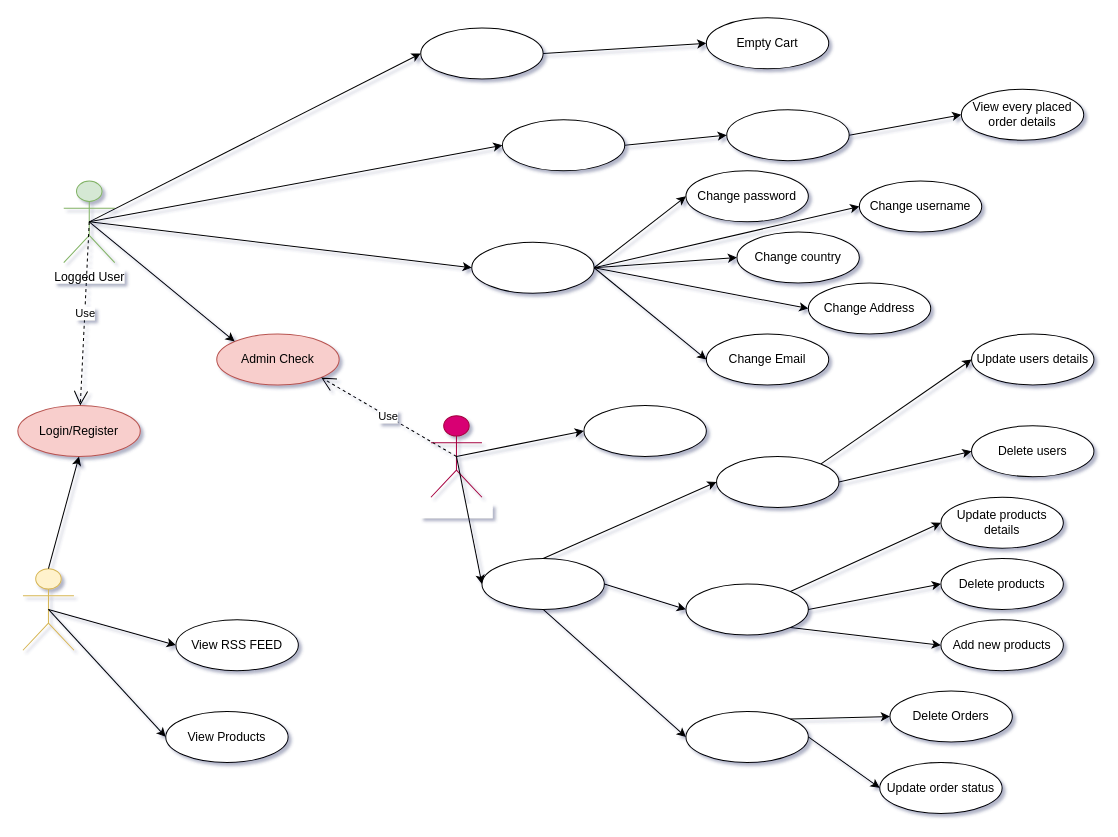
Some shapes in this 1118 by 837 pixel diagram are drawn without their labels. The shapes that lost their labels are listed below. From the top down, each one's centre as x and y in pixels, then its label:
the point at 481,53: View Cart
the point at 563,145: Place Orders
the point at 787,135: View placed orders
the point at 532,267: Modify account information
the point at 644,430: View Statistics
the point at 777,481: Modify user details
the point at 542,583: View Admin Panel
the point at 48,609: Guest User
the point at 746,609: Modify products details
the point at 746,736: Modify Order details
